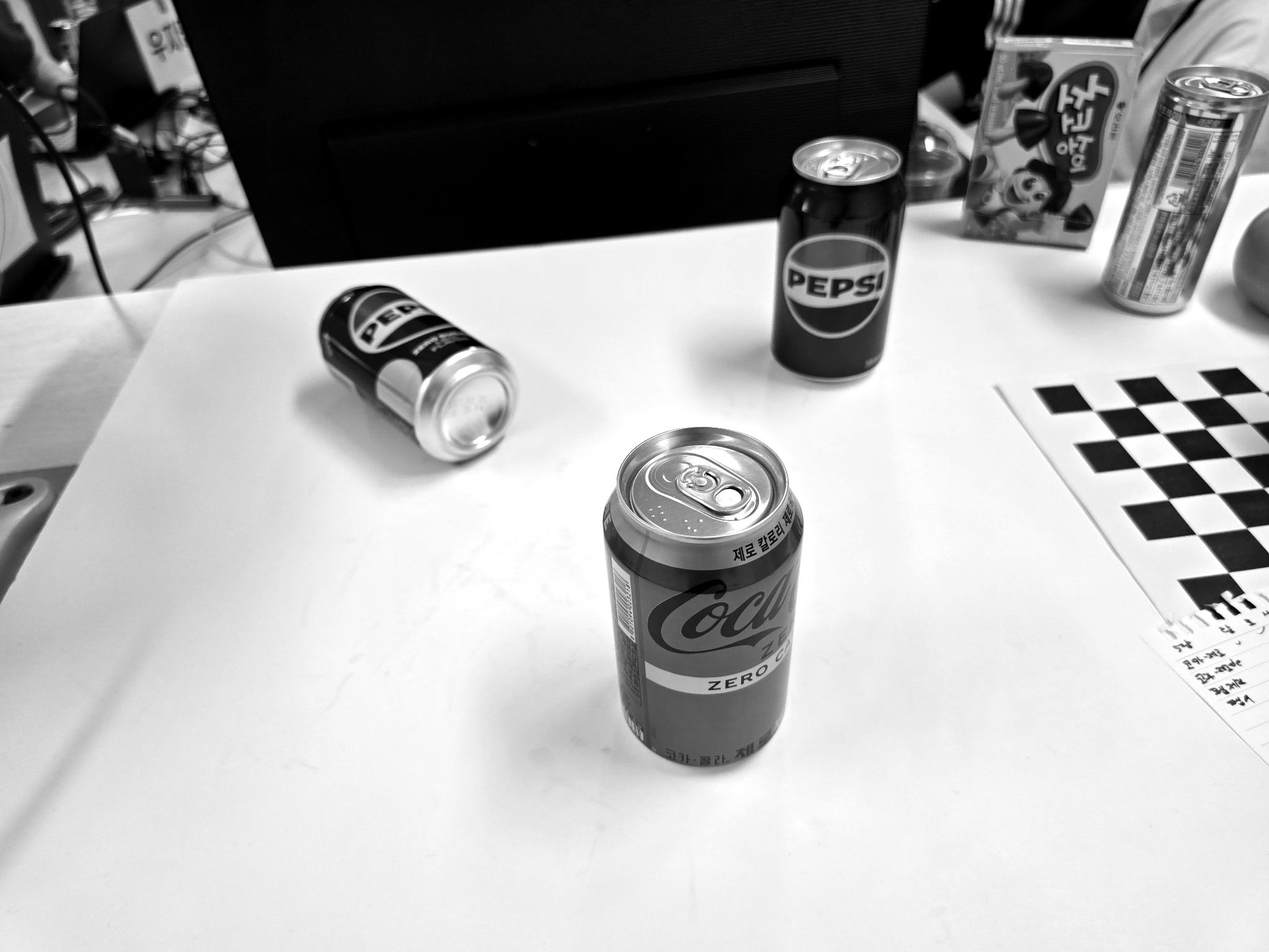can_coke_decaf: (599, 429, 803, 765)
can_pepsi: (775, 136, 906, 373)
can_pepsi_zero: (320, 289, 519, 461)
